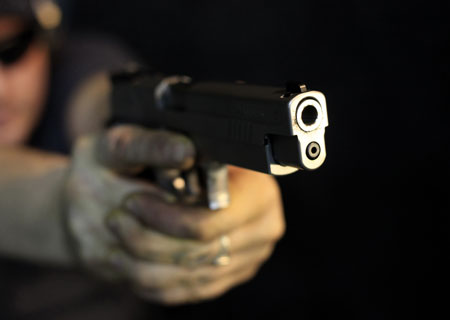gun: (100, 56, 343, 219)
